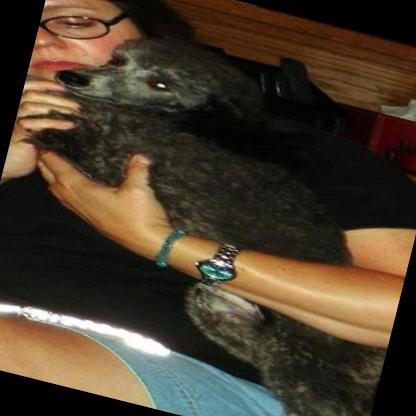miniature_poodle: (0, 11, 416, 416)
